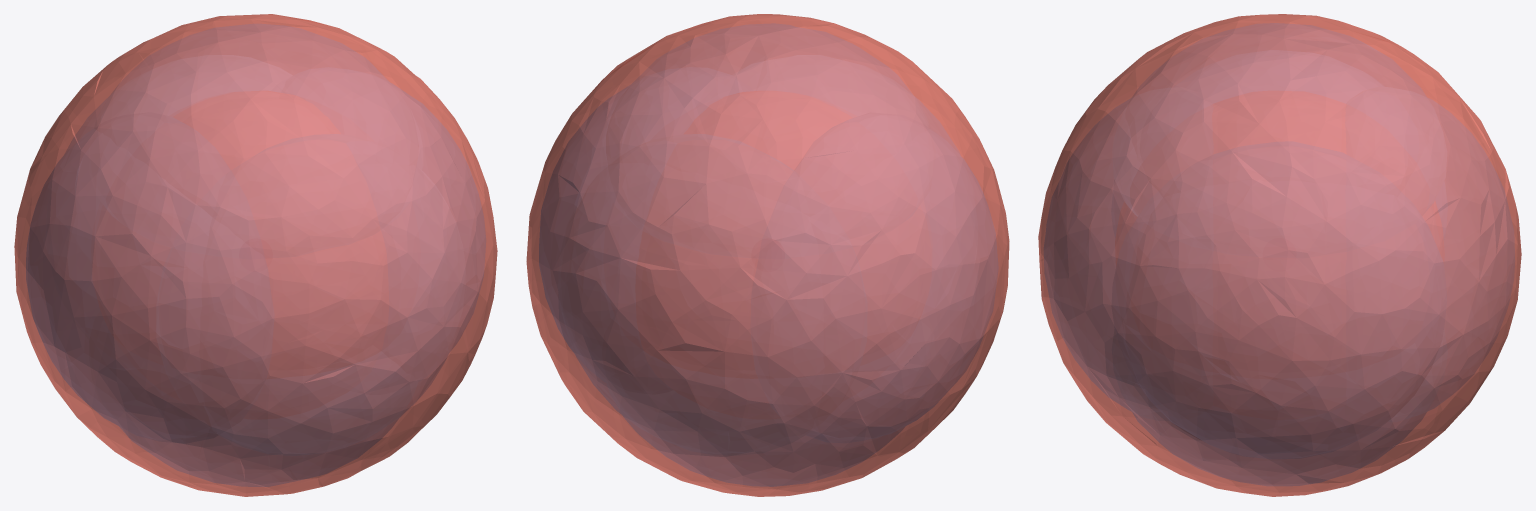
File: orbital.glb
The picture shows the model from 3 angles, left to right: view 1: azimuth 30°, elevation 25°; view 2: azimuth 150°, elevation 25°; view 3: azimuth 270°, elevation 25°; orthographic projection.
Visible parts, largest first — view 1: S_n3_s_ml0_node, S_n3_p_ml1_node, S_n3_p_ml-1_node, S_n3_p_ml0_node; view 2: S_n3_s_ml0_node, S_n3_p_ml1_node, S_n3_p_ml-1_node, S_n3_p_ml0_node; view 3: S_n3_s_ml0_node, S_n3_p_ml1_node, S_n3_p_ml0_node, S_n3_p_ml-1_node.
Part boxes in pixels (bbox=[...]): S_n3_s_ml0_node: bbox=[14, 14, 497, 496]; S_n3_p_ml1_node: bbox=[26, 83, 485, 440]; S_n3_p_ml-1_node: bbox=[94, 24, 418, 486]; S_n3_p_ml0_node: bbox=[66, 97, 465, 453]; S_n3_s_ml0_node: bbox=[526, 14, 1009, 496]; S_n3_p_ml1_node: bbox=[539, 85, 998, 439]; S_n3_p_ml-1_node: bbox=[606, 24, 929, 486]; S_n3_p_ml0_node: bbox=[558, 98, 959, 453]; S_n3_s_ml0_node: bbox=[1038, 14, 1521, 496]; S_n3_p_ml1_node: bbox=[1125, 180, 1432, 458]; S_n3_p_ml0_node: bbox=[1044, 98, 1514, 414]; S_n3_p_ml-1_node: bbox=[1125, 23, 1433, 485].
Bounding box in the file's own units: 1.57 × 1.57 × 1.57.
